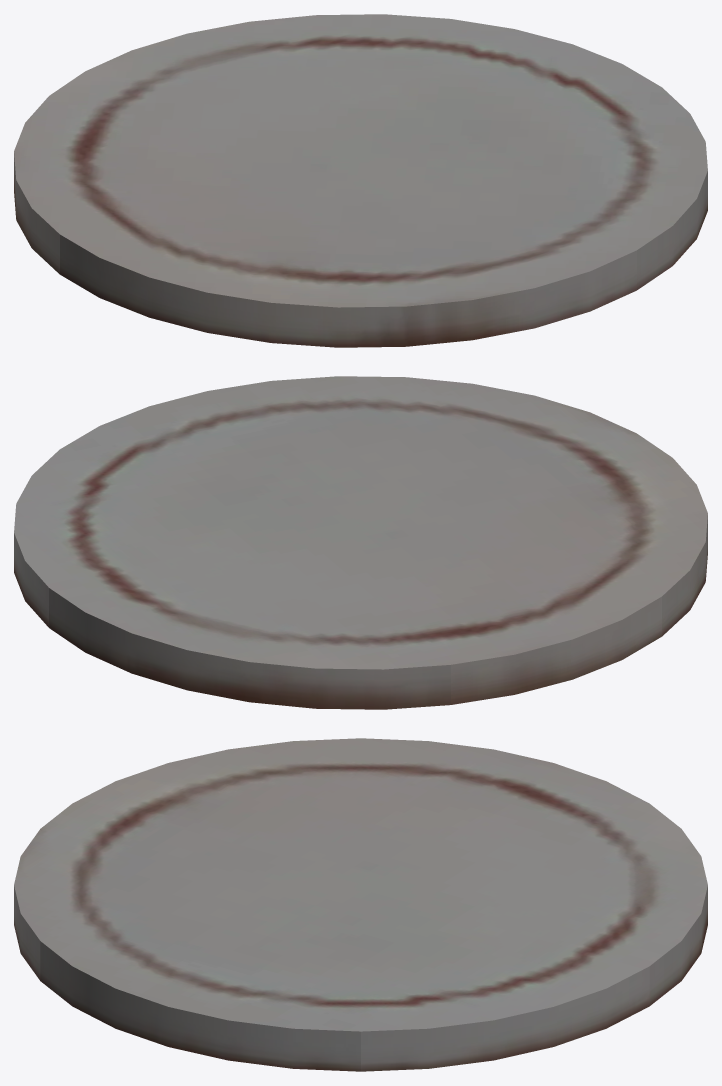
The model's file is front_wheel_1__hub_cap_1.glb.
3 renders of one model, top to bottom at view 1: azimuth 30°, elevation 25°; view 2: azimuth 150°, elevation 25°; view 3: azimuth 270°, elevation 25°, orthographic.
Visible parts, largest first — view 1: world; view 2: world; view 3: world.
Boxes of the visible parts, x1,y1,x2,y2 form: world: (14, 14, 707, 347); world: (14, 376, 707, 709); world: (14, 738, 707, 1071).
Size of the model in its own units: 0.094 by 0.006 by 0.094.
Materials: 1 (1 with a texture image).
